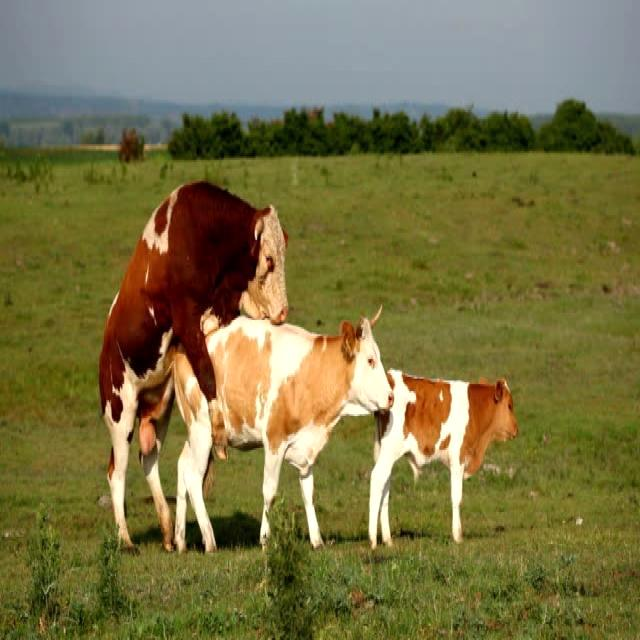COW: (99, 181, 288, 546), (208, 317, 391, 548), (369, 370, 519, 548), (172, 352, 216, 551)
